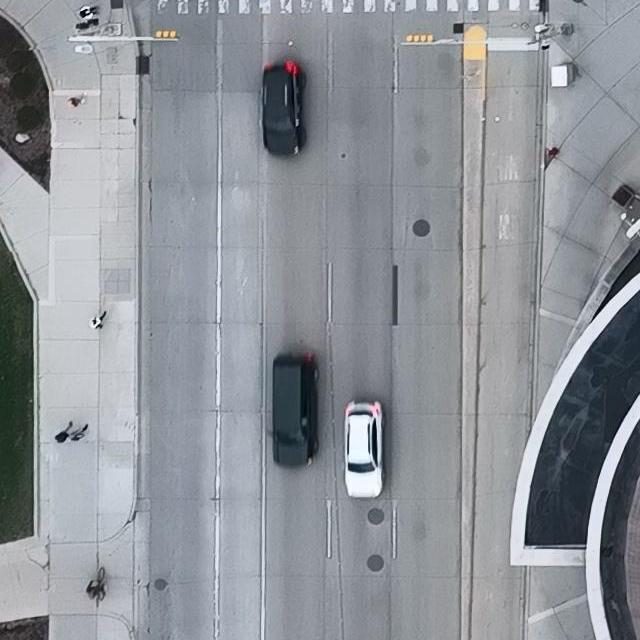car: (266, 354, 316, 469), (261, 59, 307, 158), (342, 400, 384, 498)
